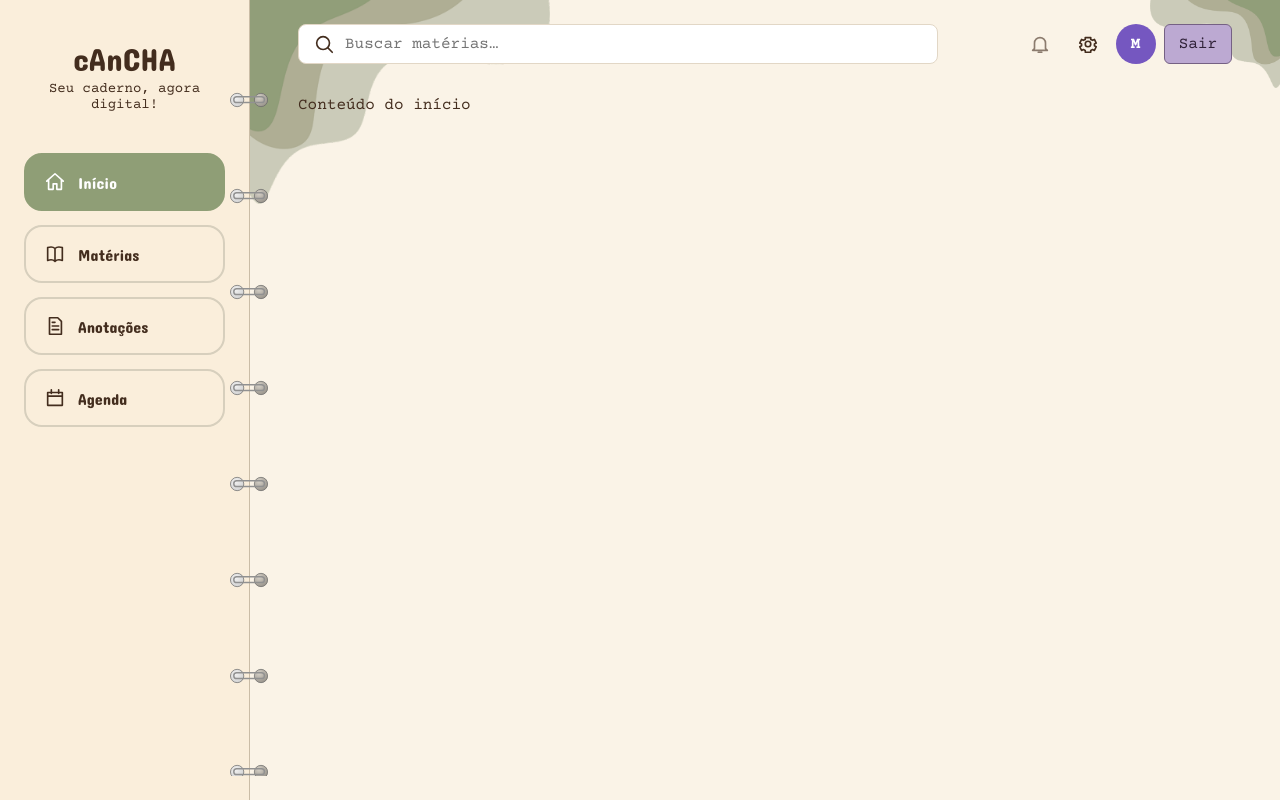
Layout base › abre a tela "Em breve" das anotações
What coordinates should you click on to do the following:
click the link "Anotações"
I would click on:
 (124, 326)
Its box is top-left (24, 297), bottom-right (225, 355).
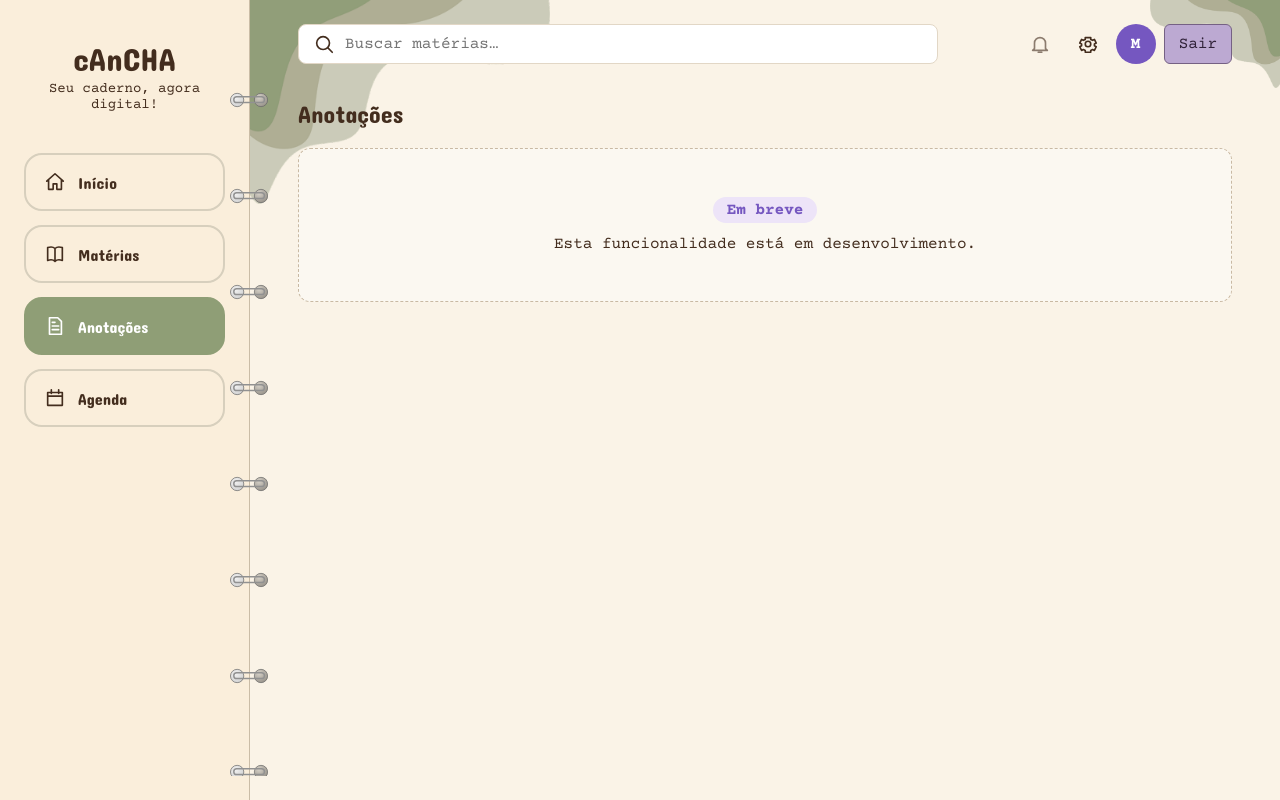
Expected: the heading "Anotações" is shown, top-left (298, 100), bottom-right (403, 128)
Expected: the text "Em breve" is shown, top-left (713, 197), bottom-right (817, 223)
